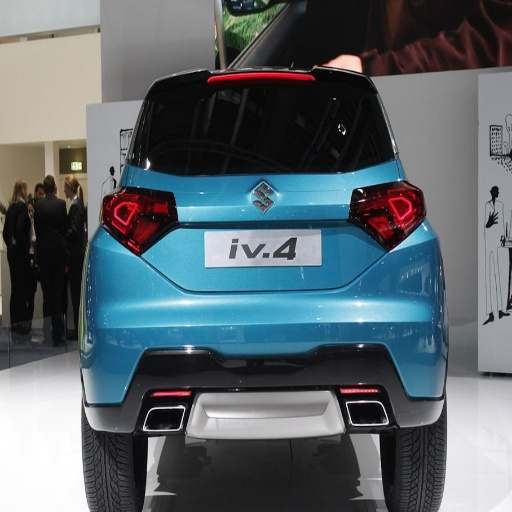back_bumper: (84, 231, 442, 440)
back_right_light: (370, 183, 425, 248)
tailgate: (125, 165, 383, 291)
trunk: (327, 286, 443, 364), (130, 172, 241, 220), (273, 179, 342, 216)
